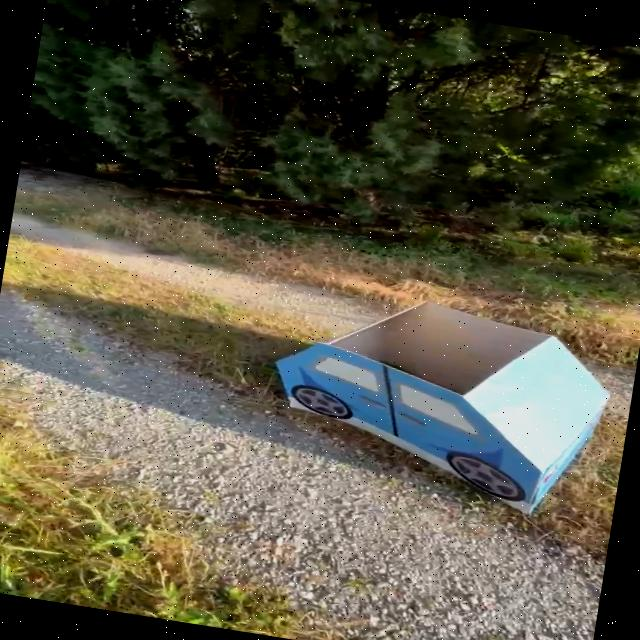blue_car: (233, 266, 640, 532)
